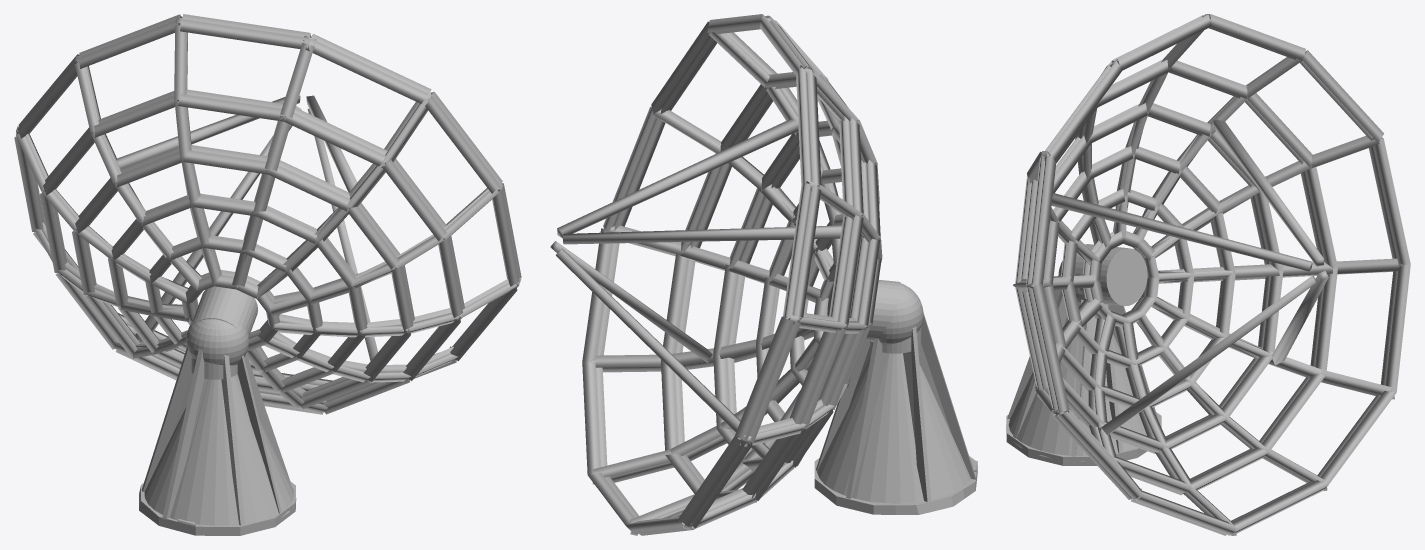
The model's file is LargeBlockRadarRynAR_Constr3.fbx.
The picture shows the model from 3 angles, left to right: view 1: azimuth 30°, elevation 25°; view 2: azimuth 150°, elevation 25°; view 3: azimuth 270°, elevation 25°; orthographic projection. The views are drawn at different scales.
Parts seen in each view (by area): view 1: Cone.001; view 2: Cone.001; view 3: Cone.001.
Part boxes in pixels (<box>): Cone.001: <box>14,14,521,535</box>; Cone.001: <box>550,14,977,535</box>; Cone.001: <box>1006,14,1410,535</box>.
Bounding box in the file's own units: 5.65 × 6.61 × 5.56.
